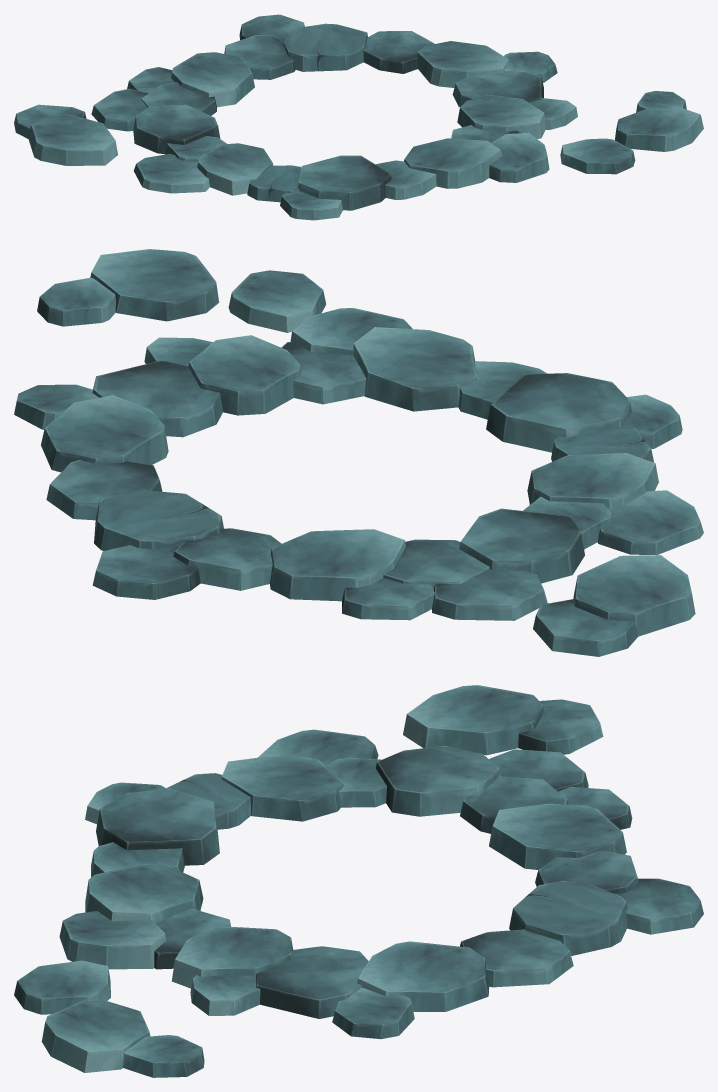
Rendered from spring.fbx.
3 renders of one model, top to bottom at view 1: azimuth 30°, elevation 25°; view 2: azimuth 150°, elevation 25°; view 3: azimuth 270°, elevation 25°, orthographic. The views are drawn at different scales.
Visible parts, largest first — view 1: polySurface2307; view 2: polySurface2307; view 3: polySurface2307.
Boxes of the visible parts, x1,y1,x2,y2 form: polySurface2307: [14, 14, 703, 220]; polySurface2307: [14, 249, 703, 656]; polySurface2307: [14, 685, 703, 1077].
Size of the model in its own units: 6.48 by 0.2163 by 5.05.
